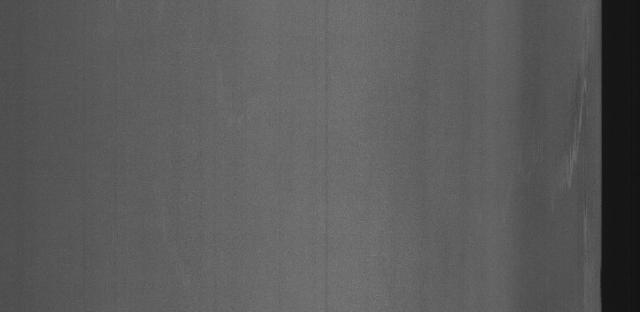silk_spot: (547, 49, 595, 198)
